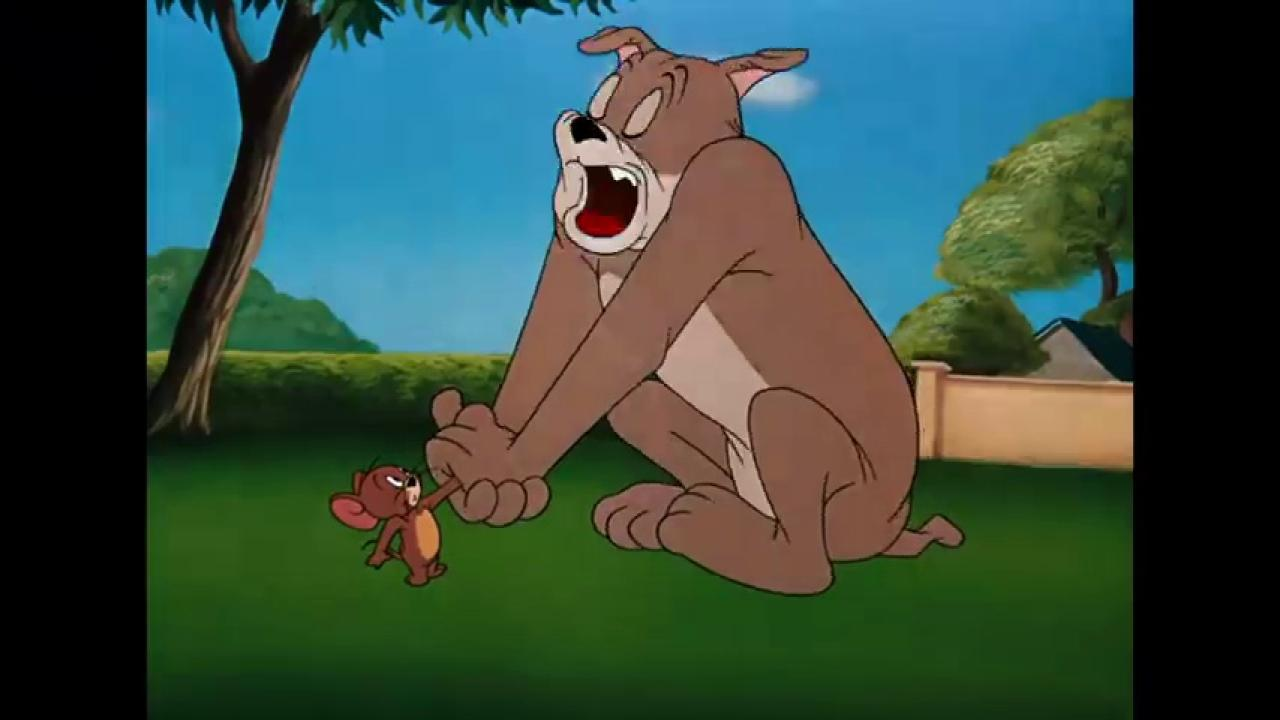Jerry: (326, 454, 464, 590)
